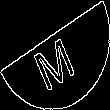M_NW: (30, 22, 80, 88)
